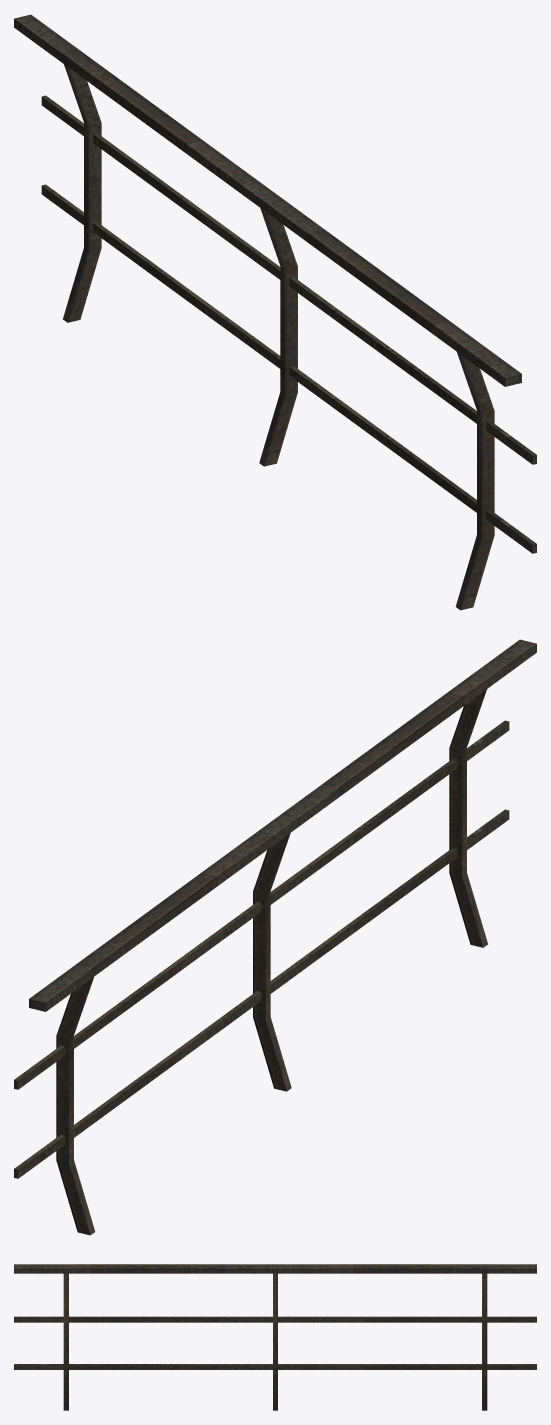
Rendered from platform_b_handrail_2.obj.
3 renders of one model, top to bottom at view 1: azimuth 30°, elevation 25°; view 2: azimuth 150°, elevation 25°; view 3: azimuth 270°, elevation 25°, orthographic. The views are drawn at different scales.
Visible parts, largest first — view 1: platform_b_handrail_2; view 2: platform_b_handrail_2; view 3: platform_b_handrail_2.
Part boxes in pixels (bbox=[...]): platform_b_handrail_2: bbox=[14, 14, 536, 610]; platform_b_handrail_2: bbox=[14, 639, 536, 1235]; platform_b_handrail_2: bbox=[14, 1264, 536, 1410].
Bounding box in the file's own units: 0.17 × 1.2 × 4.
